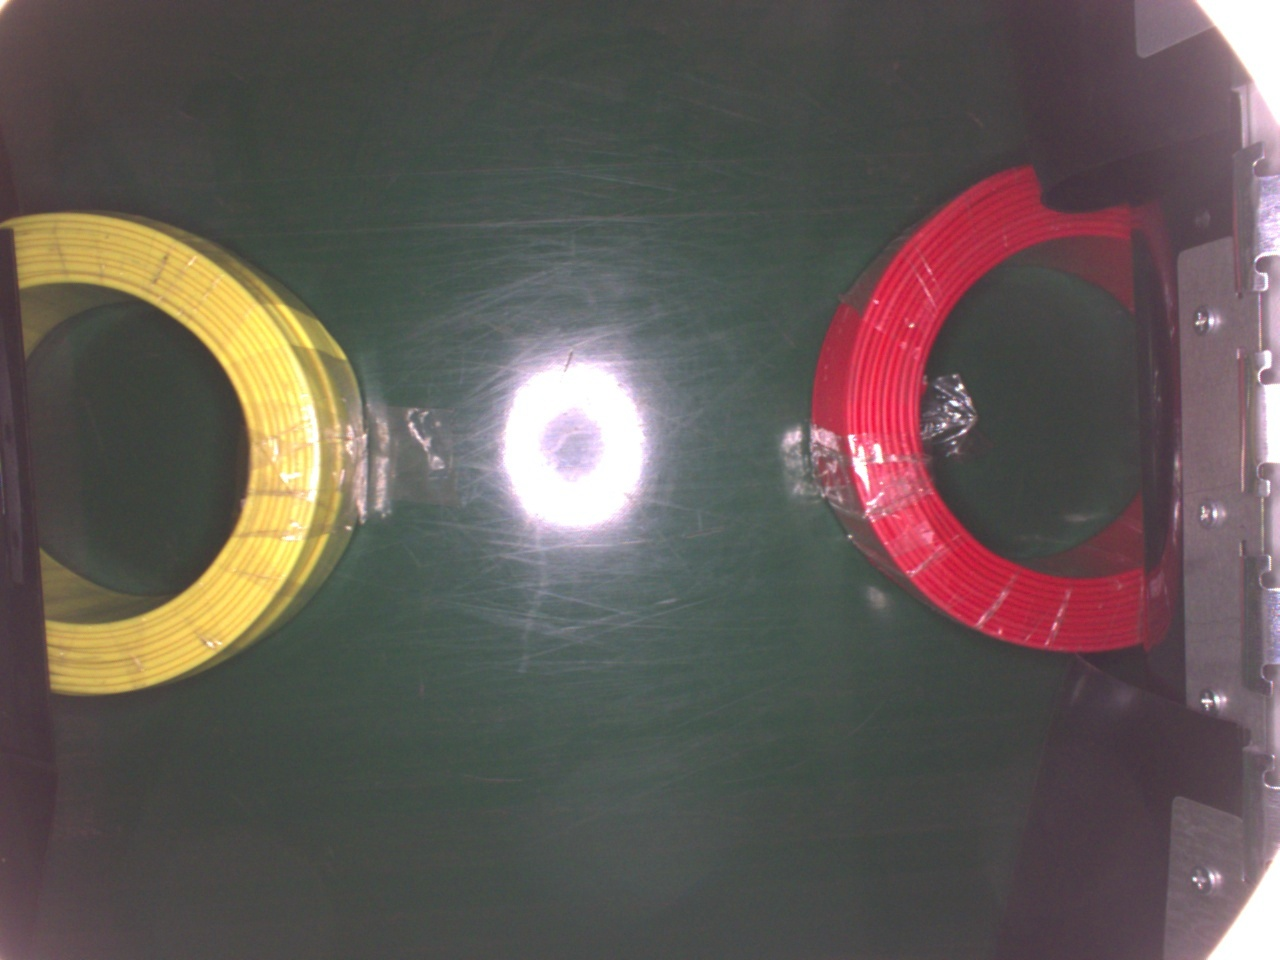red: (809, 158, 1147, 658)
yellow: (0, 205, 371, 701)
